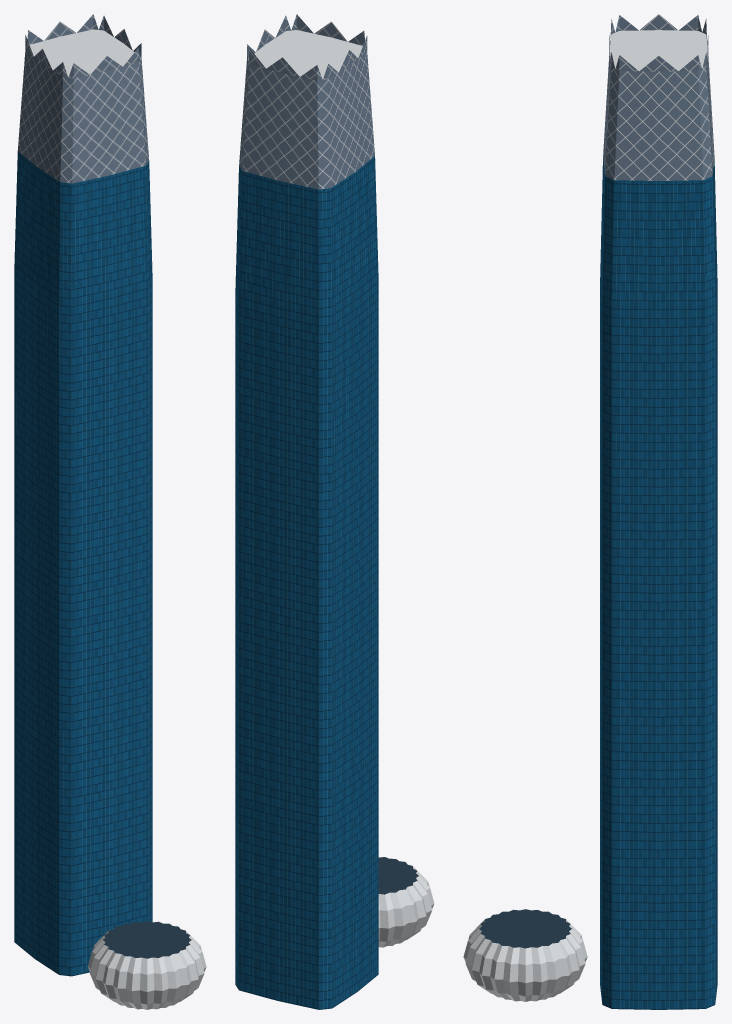
Rendered from exchange-106.glb.
3 renders of one model, left to right at view 1: azimuth 30°, elevation 25°; view 2: azimuth 150°, elevation 25°; view 3: azimuth 270°, elevation 25°, orthographic. The views are drawn at different scales.
Parts seen in each view (by area): view 1: Exchange106; view 2: Exchange106; view 3: Exchange106.
Boxes of the visible parts, x1=… form: Exchange106: x1=14, y1=14, x2=206, y2=1009; Exchange106: x1=235, y1=14, x2=434, y2=1009; Exchange106: x1=463, y1=14, x2=717, y2=1009.
Size of the model in its own units: 52.82 by 446 by 108.
Materials: 4 (2 with a texture image).
